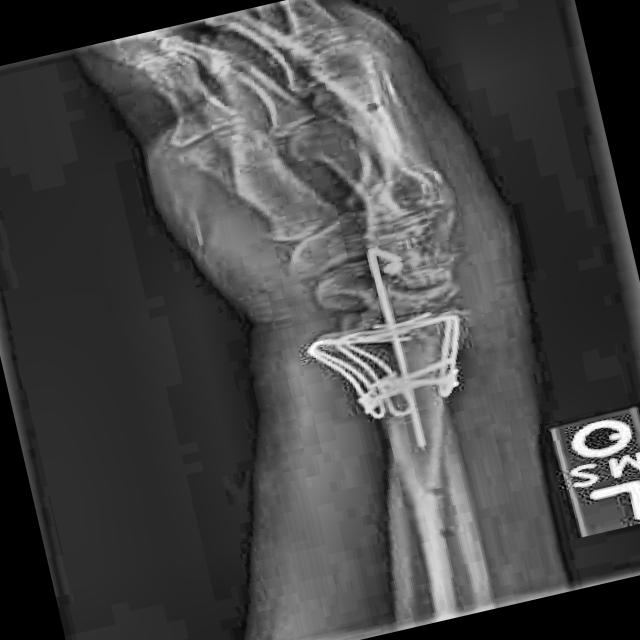fingers positive: (361, 297, 488, 364)
